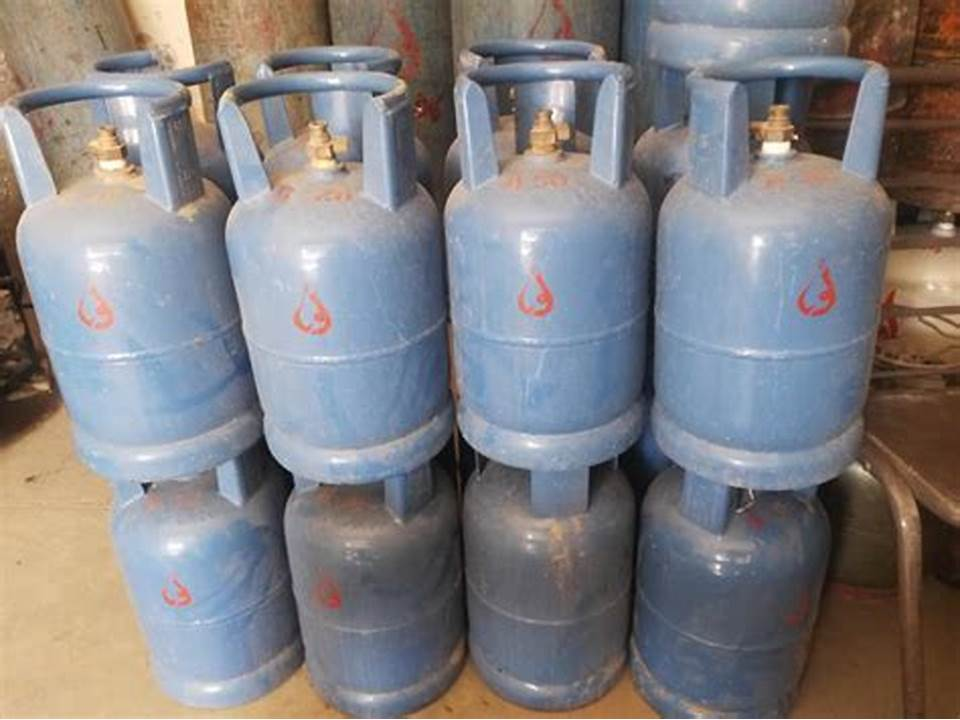blue_gas: (658, 59, 896, 488), (5, 79, 263, 470), (222, 74, 454, 477), (443, 61, 649, 464), (638, 466, 833, 720), (286, 477, 473, 720), (109, 475, 300, 711), (465, 457, 630, 714)
